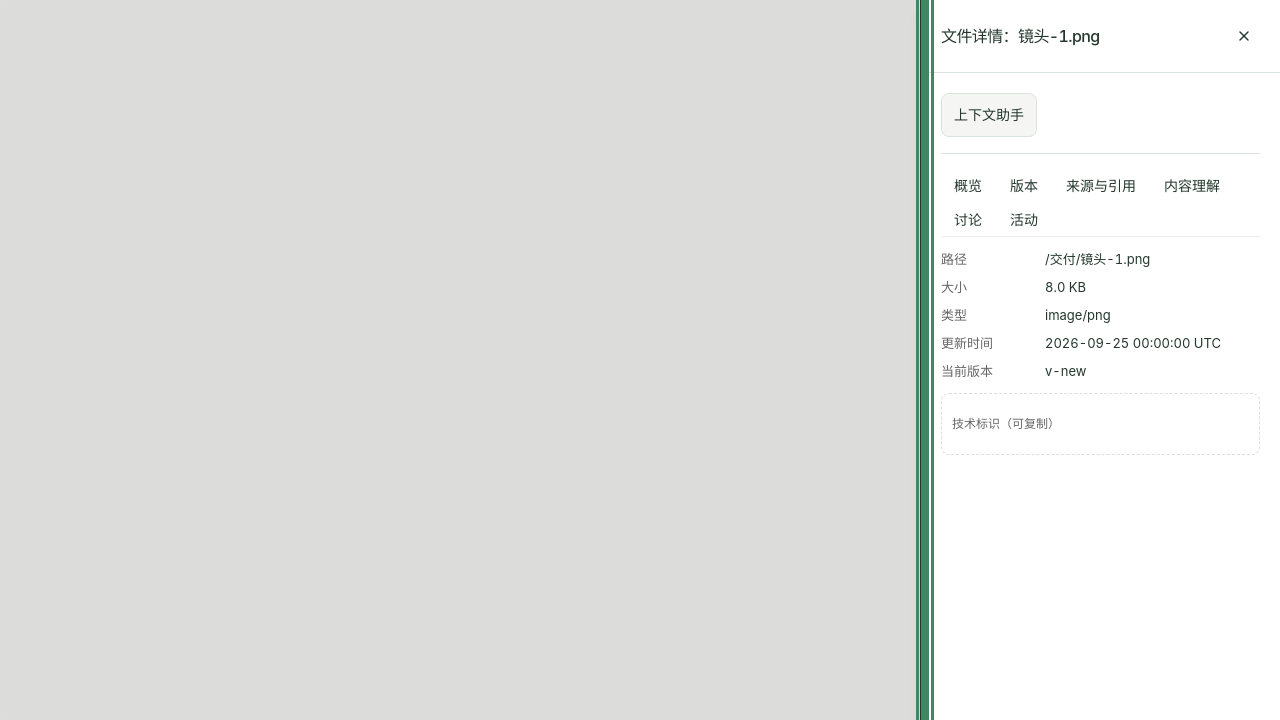
Test: TestFPInformationWorkspace › reads back the original operation by its original ID
Click the tab "来源与引用": (1101, 186) [1053,170,1149,202]
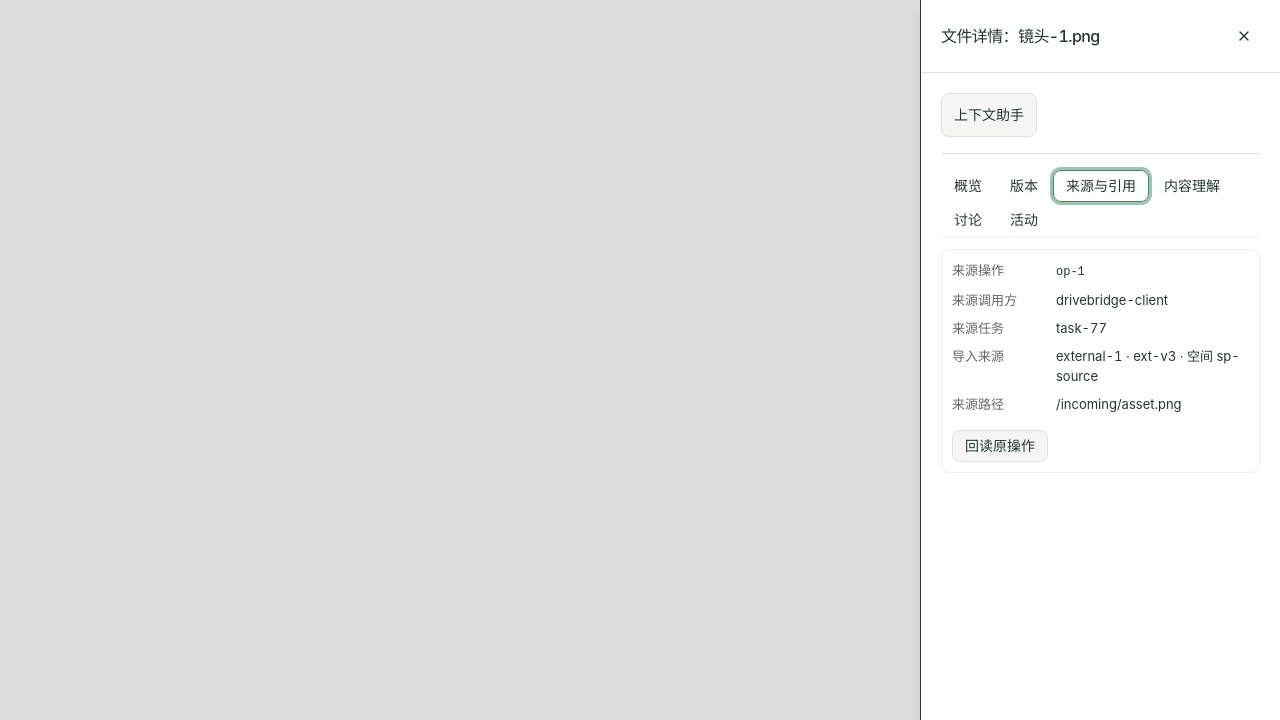
Expected: the element named "来源与引用" shows "drivebridge-client", [1056,292,1168,308]
Expected: the element named "来源与引用" shows "external-1", [1056,348,1122,364]
Expected: the element named "来源与引用" shows "/incoming/asset.png", [1056,396,1182,412]
Click the button "回读原操作": (1000, 446) [952,430,1048,462]
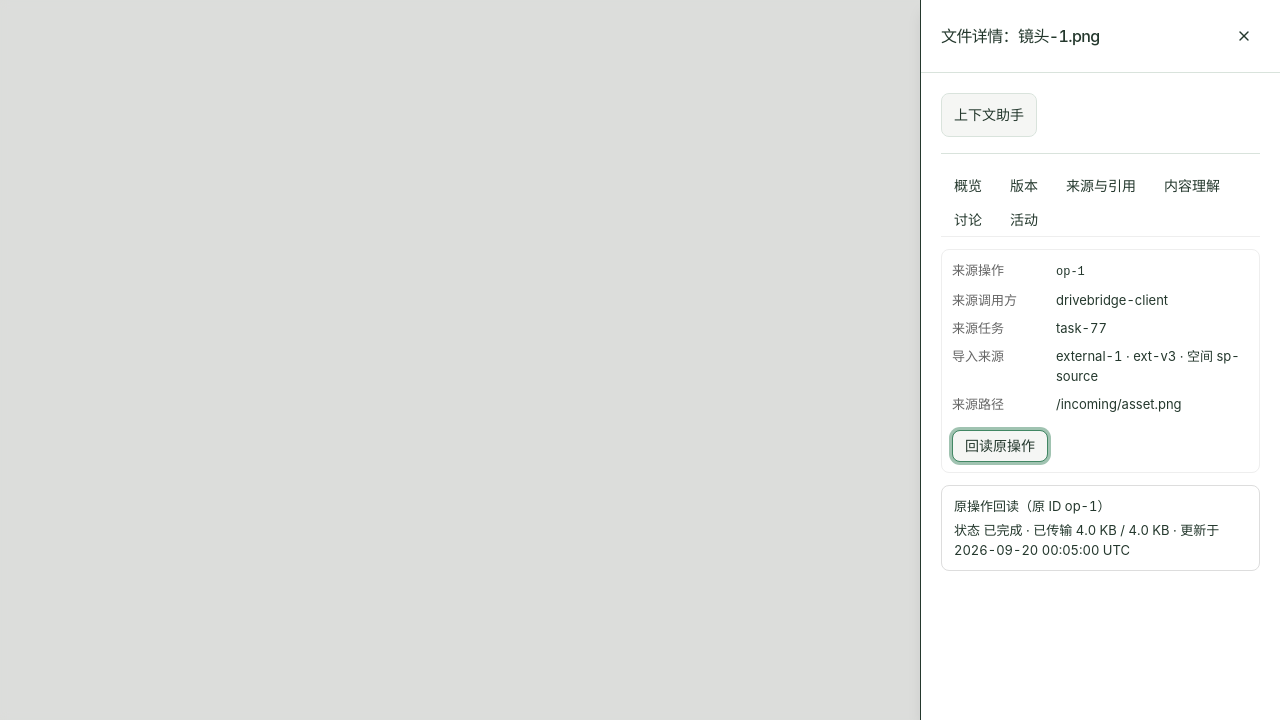
Expected: the element "原操作回读" shows "op-1", [1065,498,1098,514]
Expected: the element "原操作回读" shows "已完成", [984,522,1022,538]
